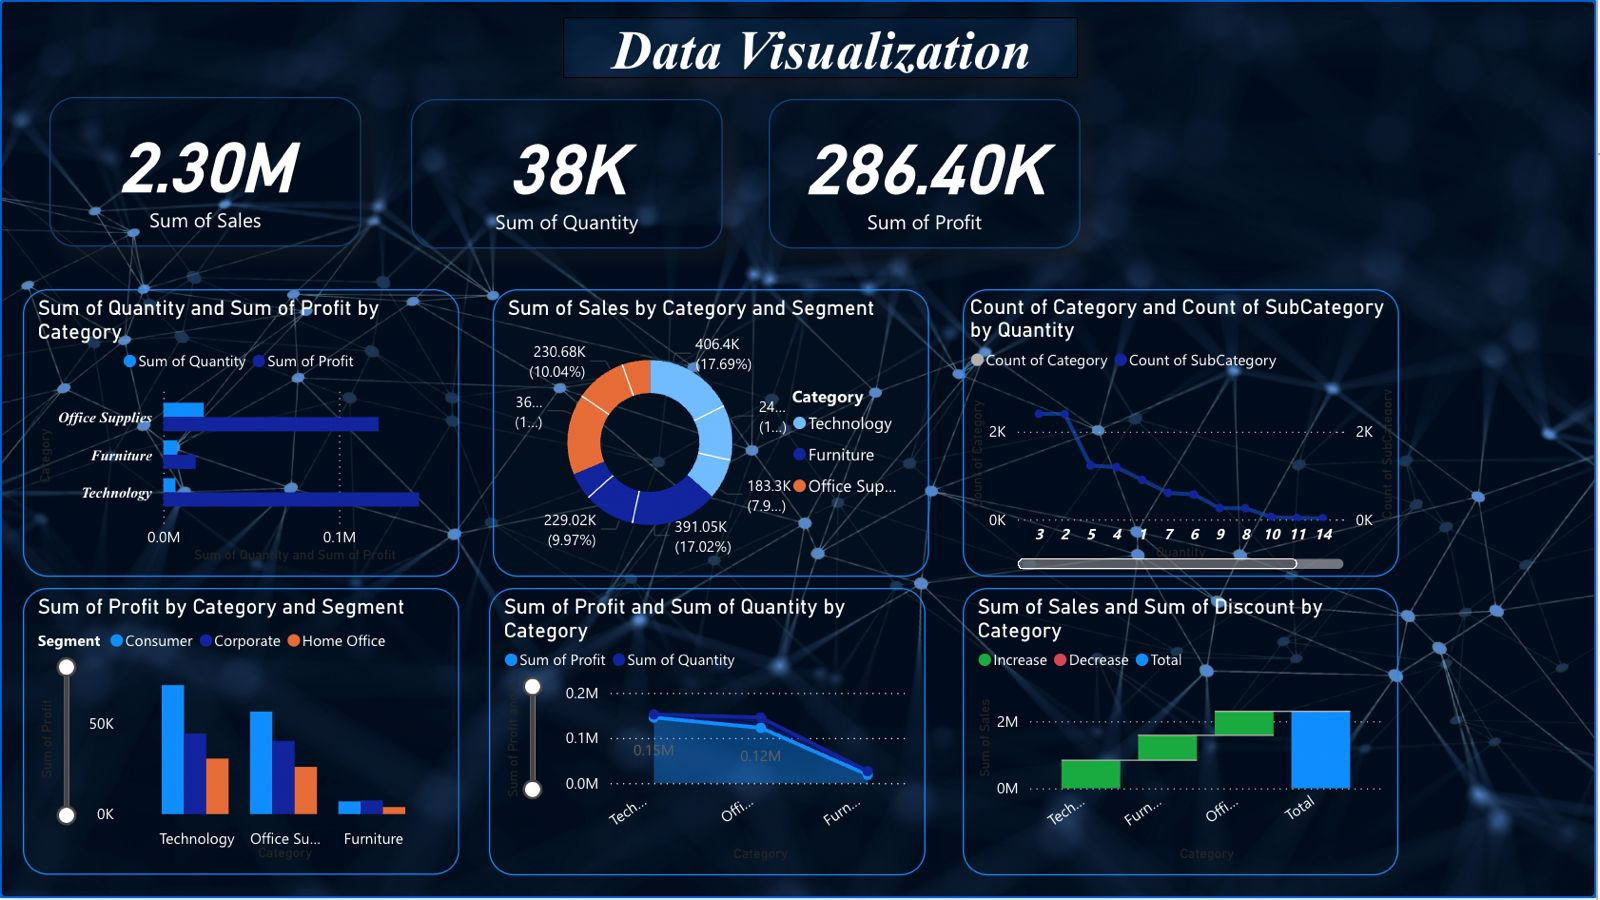

This screenshot's page, from the dashboard's own definition file:
{"tool":"powerbi","page":{"name":"Page 5","canvas":[1280,720],"ordinal":4},"visuals":[{"type":"shape","title":"Data Visualization","box":[451,14.3,412.9,49.2],"z":0},{"type":"card","fields":{"Values":["Sum(superstore 3.Sales)"]},"box":[39.7,77.8,250,120],"z":1000},{"type":"card","fields":{"Values":["Sum(superstore 3.Quantity)"]},"box":[330,79.4,250,120],"z":2000},{"type":"card","fields":{"Values":["Sum(superstore 3.Profit)"]},"box":[616.2,79.4,250,120],"z":3000},{"type":"clusteredBarChart","fields":{"Category":["superstore 3.Category"],"Y":["Sum(superstore 3.Quantity)","Sum(superstore 3.Profit)"]},"box":[19.1,231.9,350,230.3],"z":4000},{"type":"donutChart","fields":{"Category":["superstore 3.Category"],"Series":["superstore 3.Segment"],"Y":["Sum(superstore 3.Sales)"]},"box":[395.4,231.9,350,230.3],"z":5000},{"type":"clusteredColumnChart","fields":{"Category":["superstore 3.Category"],"Y":["Sum(superstore 3.Profit)"],"Series":["superstore 3.Segment"]},"box":[19,472,350,230],"z":6000},{"type":"stackedAreaChart","fields":{"Y":["Sum(superstore 3.Profit)","Sum(superstore 3.Quantity)"],"Category":["superstore 3.Category"]},"box":[392.3,471.7,350,230.3],"z":7000},{"type":"donutChart","fields":{"Category":["superstore 3.Category"],"Y":["Sum(superstore 3.Sales)","Sum(superstore 3.Discount)"]},"box":[771.8,471.7,349.4,230.3],"z":8000},{"type":"lineChart","fields":{"Y":["CountNonNull(superstore 3.Category)"],"Category":["superstore 3.Quantity"],"Y2":["CountNonNull(superstore 3.SubCategory)"]},"box":[771.8,231.9,350,230.3],"z":9000}]}

Visuals, with their boxes in screenshot pixels (x1, y1, x2, y2), scaled from the page's 1280x720 canvas onto the 1600x900 screenshot:
"Data Visualization" shape: rect(564, 18, 1080, 79)
card - Sum(superstore 3.Sales): rect(50, 97, 362, 247)
card - Sum(superstore 3.Quantity): rect(412, 99, 725, 249)
card - Sum(superstore 3.Profit): rect(770, 99, 1083, 249)
clusteredBarChart - superstore 3.Category x Sum(superstore 3.Quantity): rect(24, 290, 461, 578)
donutChart - superstore 3.Category x superstore 3.Segment: rect(494, 290, 932, 578)
clusteredColumnChart - superstore 3.Category x Sum(superstore 3.Profit): rect(24, 590, 461, 878)
stackedAreaChart - Sum(superstore 3.Profit) x Sum(superstore 3.Quantity): rect(490, 590, 928, 878)
donutChart - superstore 3.Category x Sum(superstore 3.Sales): rect(965, 590, 1401, 878)
lineChart - CountNonNull(superstore 3.Category) x superstore 3.Quantity: rect(965, 290, 1402, 578)
